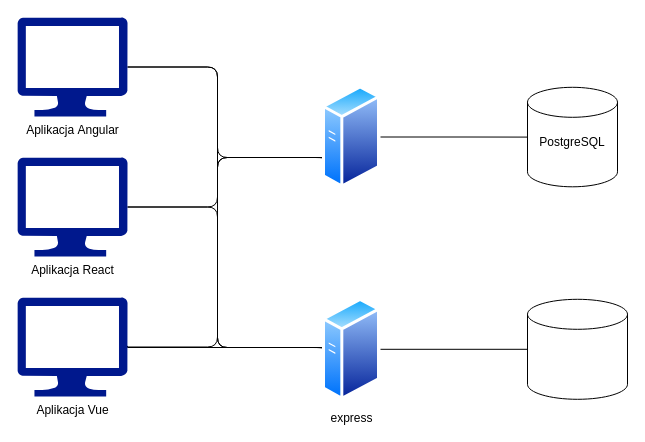
Some shapes in this 645 by 442 pixel diagram are drawn without their labels. Each missing label, with the centre of its shape:
C#, ASP.NET Core: the point at 351,136
Redis: the point at 577,348
